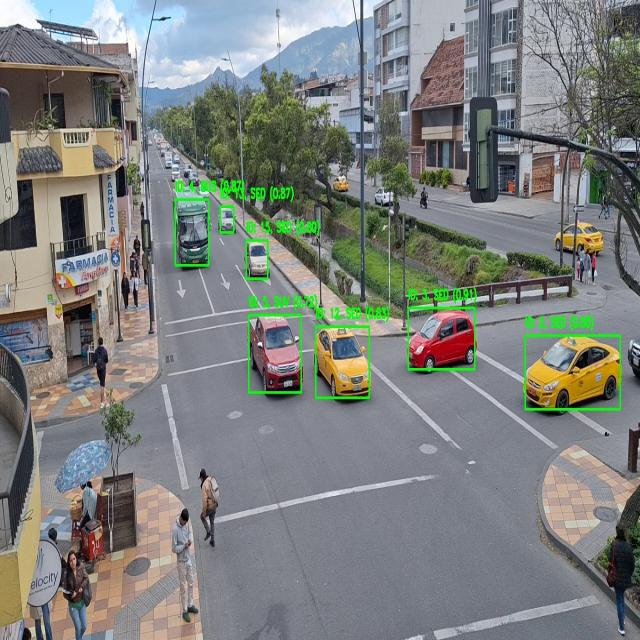BUS: (174, 193, 209, 266)
CMT: (249, 316, 302, 393)
SED: (525, 336, 621, 410), (409, 311, 475, 370), (315, 329, 370, 396), (245, 238, 269, 278), (576, 222, 604, 253), (564, 224, 574, 251), (554, 231, 561, 249)
